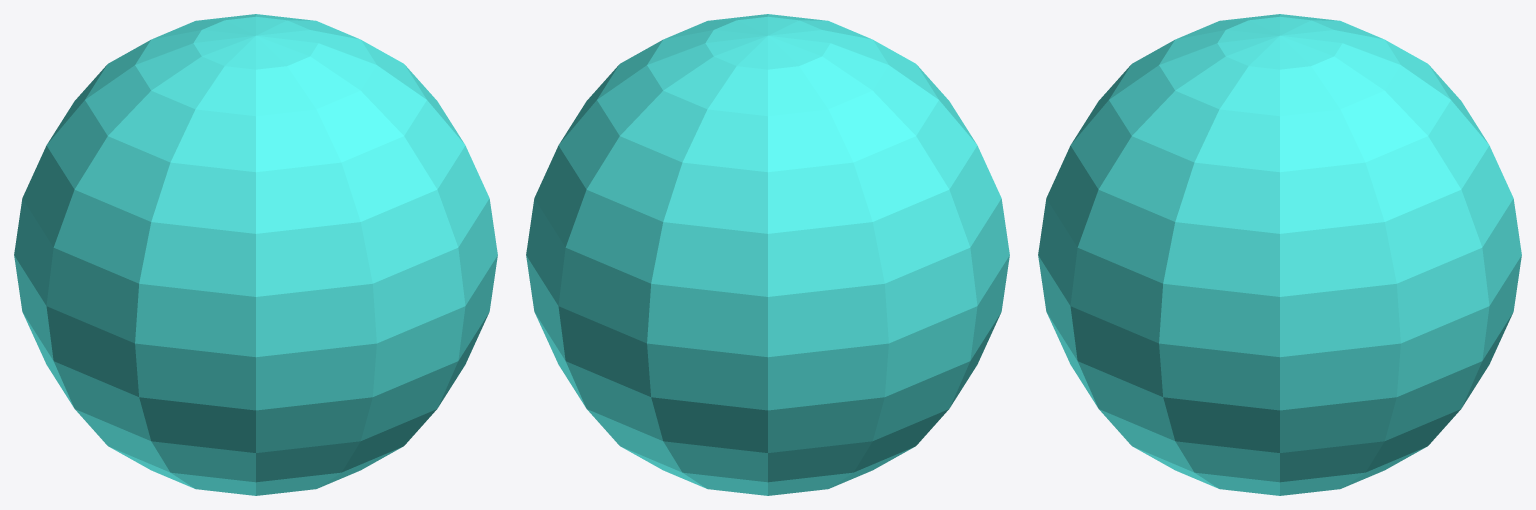
Rendered from parry_bullet.glb.
3 views of the same model, side by side, from view 1: azimuth 30°, elevation 25°; view 2: azimuth 150°, elevation 25°; view 3: azimuth 270°, elevation 25° (orthographic).
Visible parts, largest first — view 1: Parry_Bullet; view 2: Parry_Bullet; view 3: Parry_Bullet.
Boxes of the visible parts, x1,y1,x2,y2 form: Parry_Bullet: (14,14,497,495); Parry_Bullet: (526,14,1009,495); Parry_Bullet: (1038,14,1521,495).
Bounding box in the file's own units: 1 × 1 × 1.
